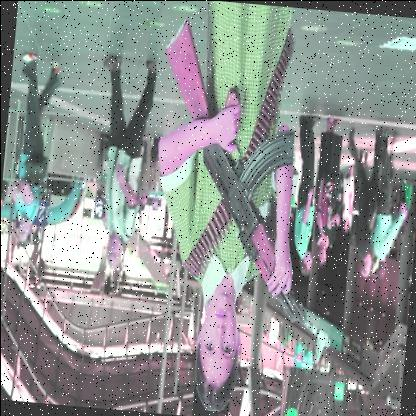rifle: (134, 9, 345, 341)
